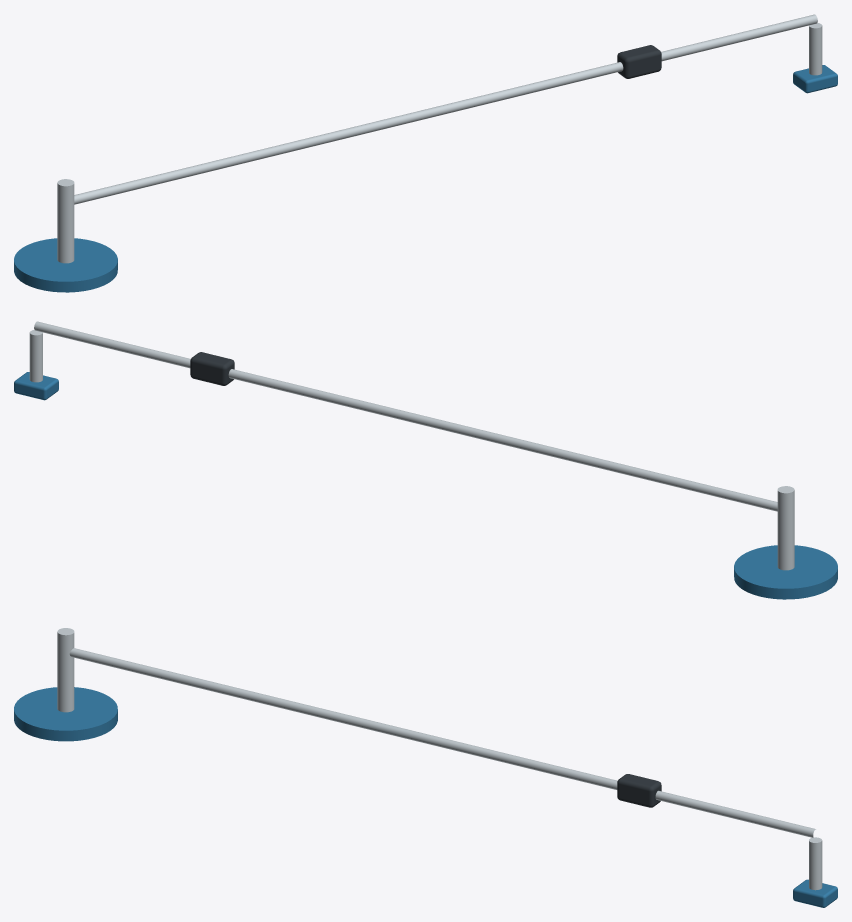
File: curling-club-and-ice-maintenance-house-painting-arm-f6174f90__31303.glb
3 views of the same model, one above another, from view 1: azimuth 30°, elevation 25°; view 2: azimuth 150°, elevation 25°; view 3: azimuth 330°, elevation 25° (orthographic).
Parts seen in each view (by area): view 1: house-painting-arm; view 2: house-painting-arm; view 3: house-painting-arm.
Boxes of the visible parts, x1,y1,x2,y2 form: house-painting-arm: [14, 14, 837, 292]; house-painting-arm: [14, 321, 837, 599]; house-painting-arm: [14, 628, 837, 907].
Size of the model in its own units: 1.98 by 0.205 by 0.22.
